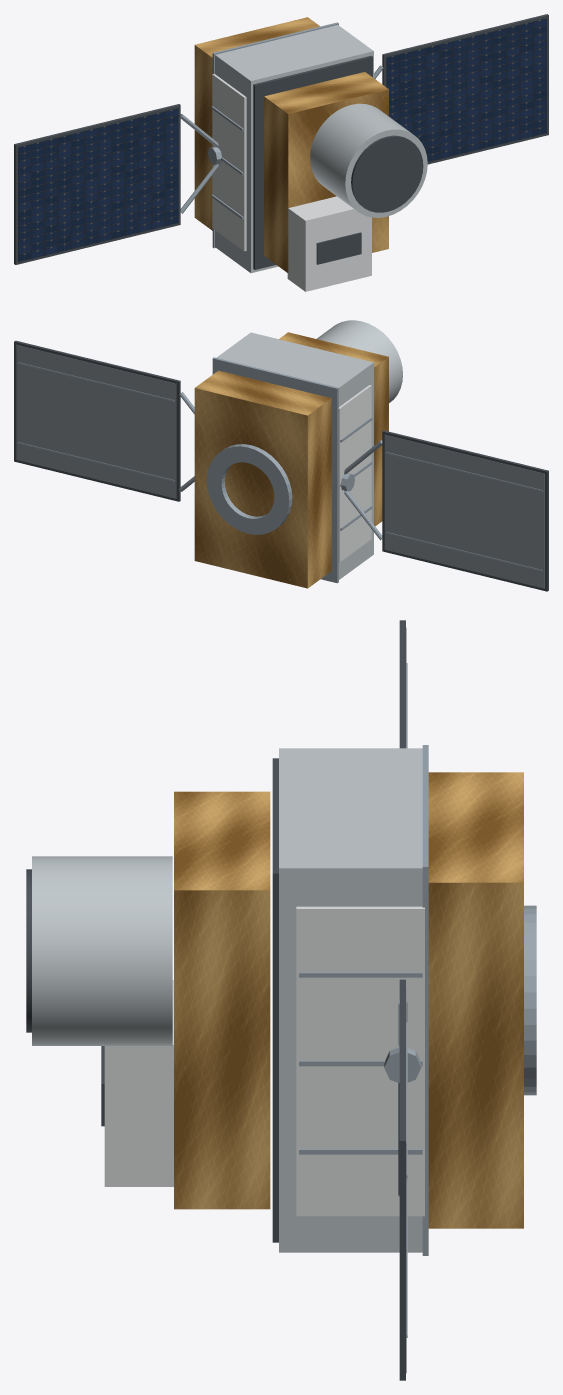
File: mtg-s.glb
3 renders of one model, top to bottom at view 1: azimuth 30°, elevation 25°; view 2: azimuth 150°, elevation 25°; view 3: azimuth 270°, elevation 25°, orthographic. The views are drawn at different scales.
Visible parts, largest first — view 1: Solar cell panel (×2), Instrument module, Payload module, Sentinel-4 spectrometer, Infrared Sounder baffle, Radiator face, Service module, Infrared Sounder aperture, Earth-facing deck, Solar panel frame (×2), Spectrometer entrance, Module interface; view 2: Rear array substrate (×2), Service module, Payload module, Radiator face, Solar panel frame (×2), Launch adapter ring, Module interface, Instrument module, Infrared Sounder baffle, Rear stiffener (×4); view 3: Service module, Instrument module, Radiator face, Payload module, Infrared Sounder baffle, Sentinel-4 spectrometer, Solar panel frame (×2), Earth-facing deck, Module interface, Launch adapter ring, Infrared Sounder aperture.
Boxes of the visible parts, bbox=[...] form: Solar cell panel (×2): bbox=[18, 18, 546, 262]; Instrument module: bbox=[264, 72, 388, 272]; Payload module: bbox=[215, 25, 373, 273]; Sentinel-4 spectrometer: bbox=[287, 196, 371, 291]; Infrared Sounder baffle: bbox=[310, 103, 427, 217]; Radiator face: bbox=[212, 74, 246, 251]; Service module: bbox=[194, 17, 320, 230]; Infrared Sounder aperture: bbox=[351, 135, 423, 212]; Earth-facing deck: bbox=[253, 55, 372, 269]; Solar panel frame (×2): bbox=[14, 14, 548, 264]; Spectrometer entrance: bbox=[316, 232, 361, 264]; Module interface: bbox=[212, 22, 338, 248]; Rear array substrate (×2): bbox=[16, 344, 544, 588]; Service module: bbox=[194, 370, 331, 588]; Payload module: bbox=[216, 332, 373, 579]; Radiator face: bbox=[338, 385, 371, 562]; Solar panel frame (×2): bbox=[14, 340, 548, 591]; Launch adapter ring: bbox=[206, 444, 292, 534]; Module interface: bbox=[212, 357, 338, 583]; Instrument module: bbox=[279, 332, 388, 526]; Infrared Sounder baffle: bbox=[317, 320, 402, 402]; Rear stiffener (×4): bbox=[17, 362, 542, 571]; Service module: bbox=[428, 772, 523, 1228]; Instrument module: bbox=[174, 791, 270, 1209]; Radiator face: bbox=[296, 906, 424, 1216]; Payload module: bbox=[279, 748, 422, 1252]; Infrared Sounder baffle: bbox=[32, 856, 172, 1045]; Sentinel-4 spectrometer: bbox=[104, 980, 173, 1186]; Solar panel frame (×2): bbox=[399, 620, 405, 1380]; Earth-facing deck: bbox=[272, 758, 278, 1242]; Module interface: bbox=[422, 745, 428, 1255]; Launch adapter ring: bbox=[524, 905, 536, 1095]; Infrared Sounder aperture: bbox=[26, 869, 31, 1032].
Size of the model in its own units: 9.97 by 3.47 by 4.13.
7 materials, 2 textured.
